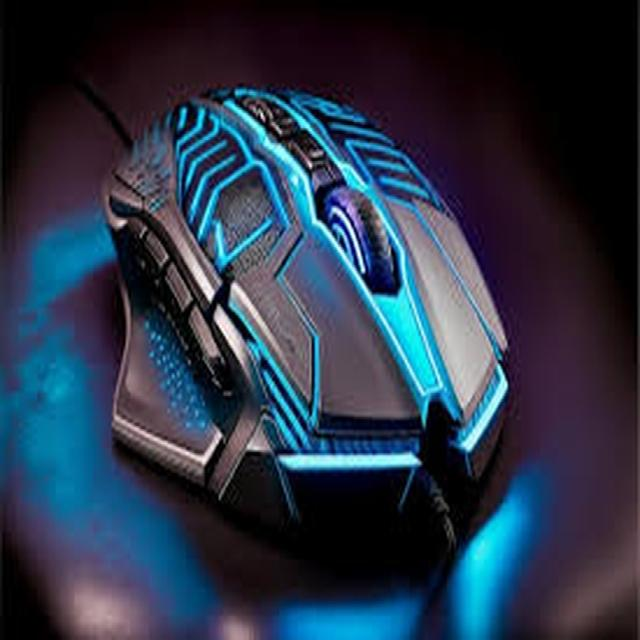mouse: (49, 50, 539, 558)
